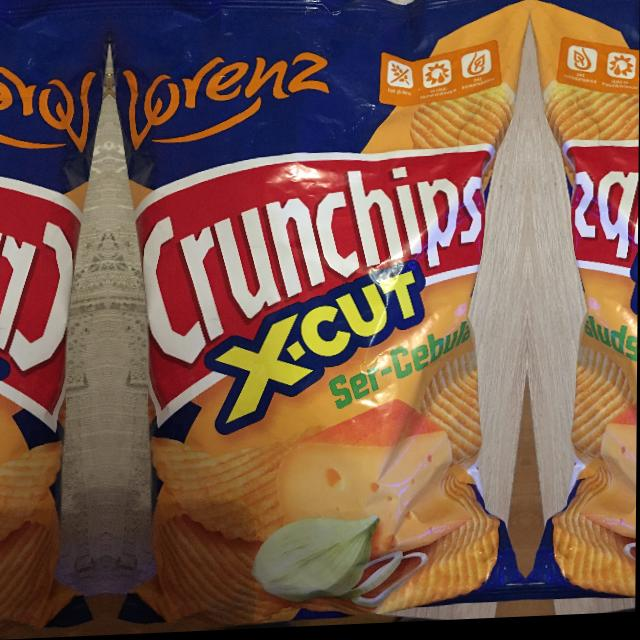crunchips: (134, 149, 497, 430), (1, 177, 84, 434)
